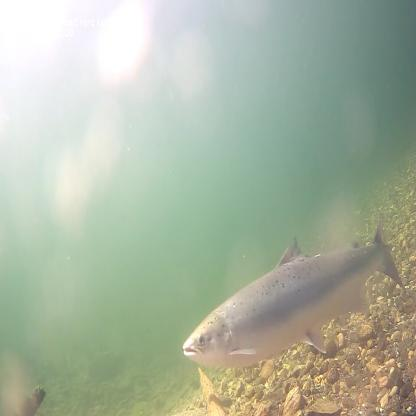salmon: (181, 210, 407, 370)
